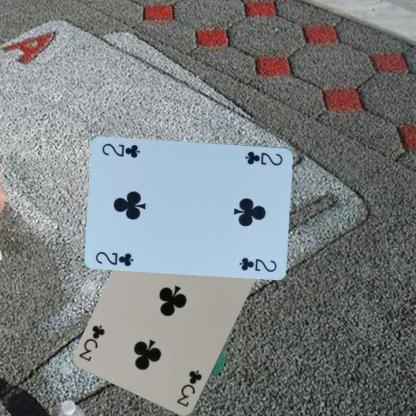2c: (242, 148, 284, 167), (94, 249, 136, 268)
3c: (174, 368, 204, 408)
